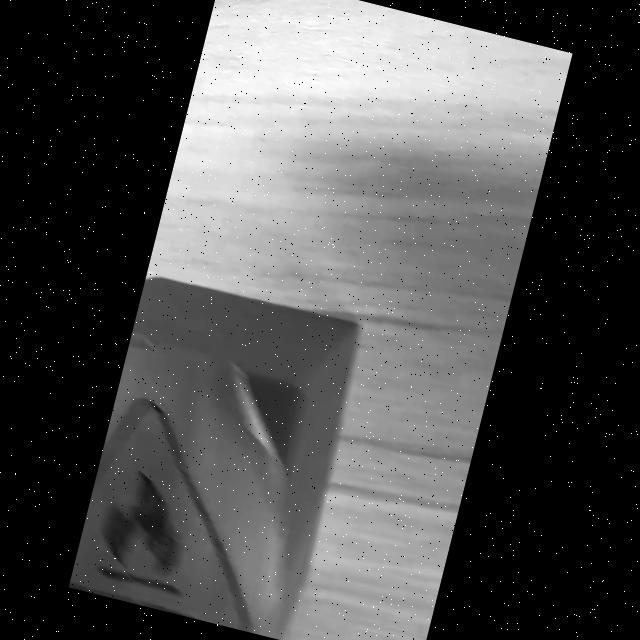Fire: (68, 396, 239, 628)
